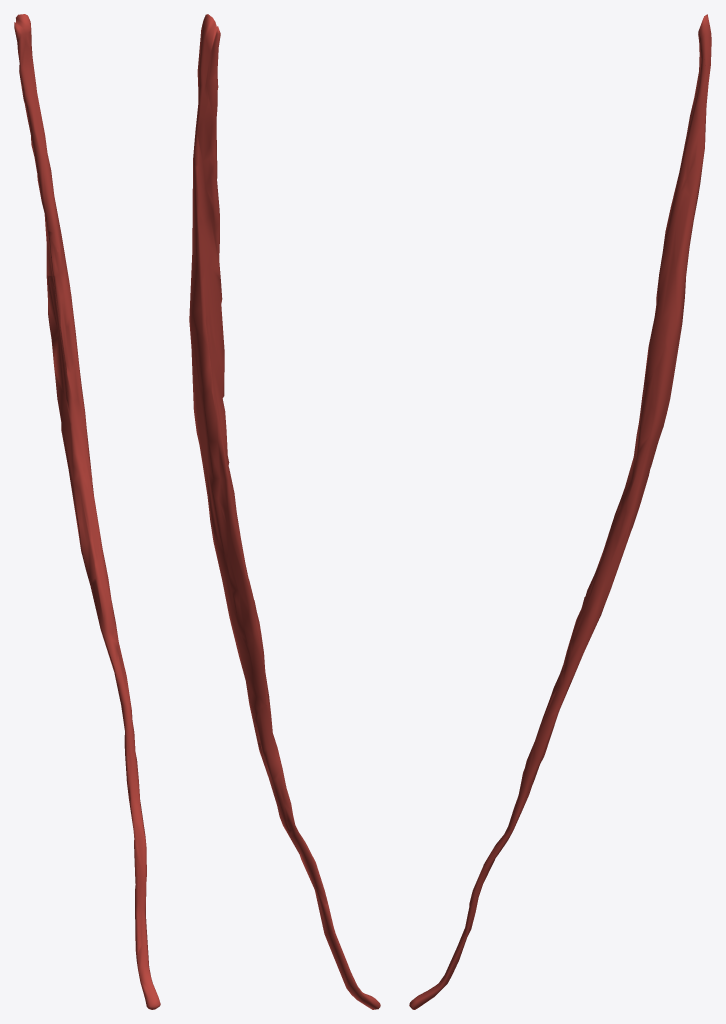
File: musculos-extensor-digiti-minimi-l.glb
3 views of the same model, side by side, from view 1: azimuth 30°, elevation 25°; view 2: azimuth 150°, elevation 25°; view 3: azimuth 270°, elevation 25° (orthographic). The views are drawn at different scales.
Visible parts, largest first — view 1: Extensor digiti minimi.l; view 2: Extensor digiti minimi.l; view 3: Extensor digiti minimi.l.
Boxes of the visible parts, bbox=[...] form: Extensor digiti minimi.l: bbox=[14, 14, 160, 1009]; Extensor digiti minimi.l: bbox=[189, 14, 380, 1009]; Extensor digiti minimi.l: bbox=[409, 14, 711, 1009].
Size of the model in its own units: 0.0168 by 0.3359 by 0.0926.
